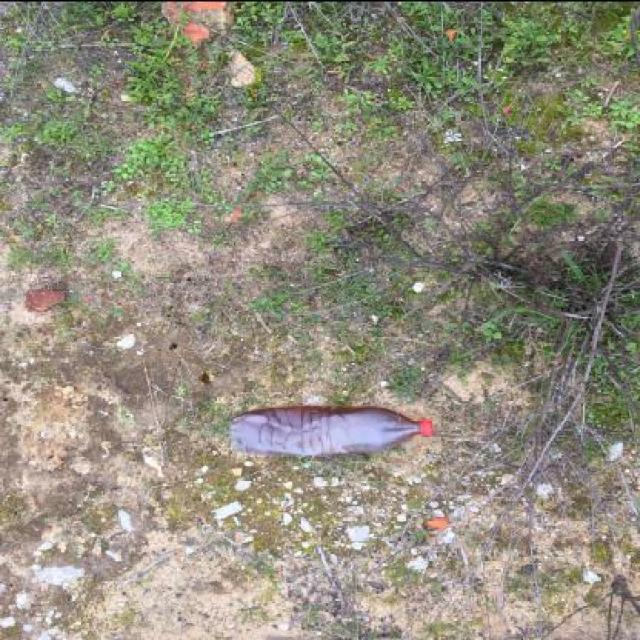plastic: (230, 403, 433, 455)
